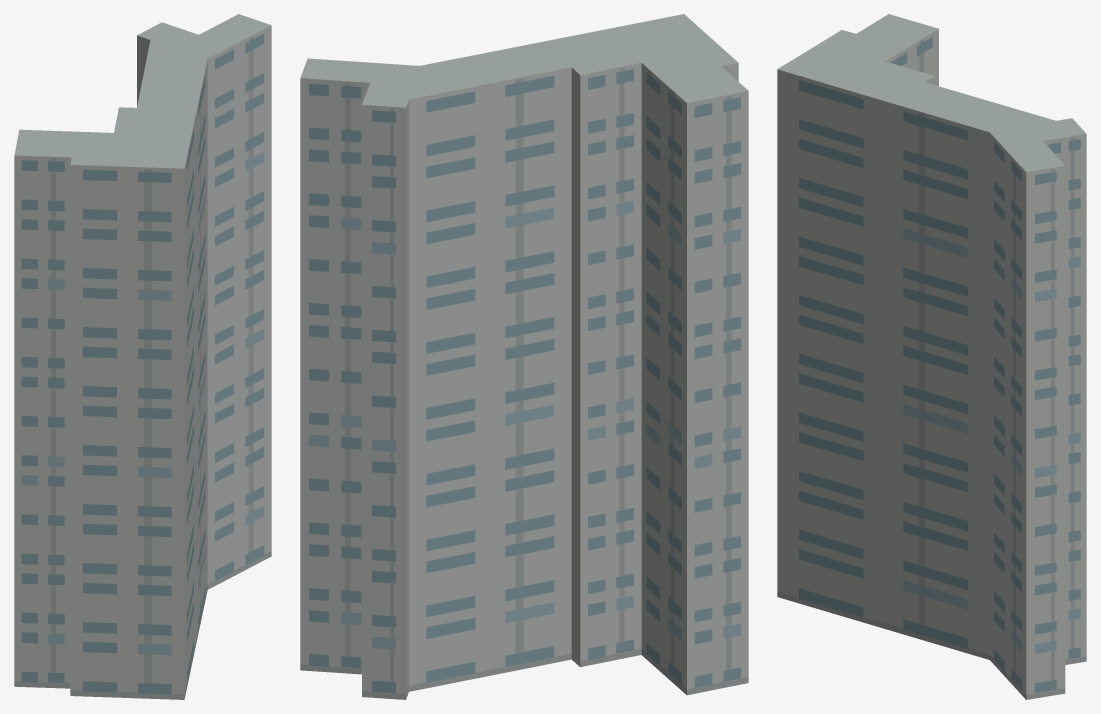
The model's file is residential-424a0895-52e9-4e54-bb13-46c0814ee51d.glb.
3 views of the same model, side by side, from view 1: azimuth 30°, elevation 25°; view 2: azimuth 150°, elevation 25°; view 3: azimuth 270°, elevation 25° (orthographic). The views are drawn at different scales.
Visible parts, largest first — view 1: residential-424a0895-52e9-4e54-bb13-46c0814ee51d.tmp; view 2: residential-424a0895-52e9-4e54-bb13-46c0814ee51d.tmp; view 3: residential-424a0895-52e9-4e54-bb13-46c0814ee51d.tmp.
Boxes of the visible parts, x1,y1,x2,y2 form: residential-424a0895-52e9-4e54-bb13-46c0814ee51d.tmp: [14, 14, 271, 699]; residential-424a0895-52e9-4e54-bb13-46c0814ee51d.tmp: [300, 14, 748, 699]; residential-424a0895-52e9-4e54-bb13-46c0814ee51d.tmp: [777, 14, 1086, 699].
Bounding box in the file's own units: 57.24 × 89 × 47.3.
